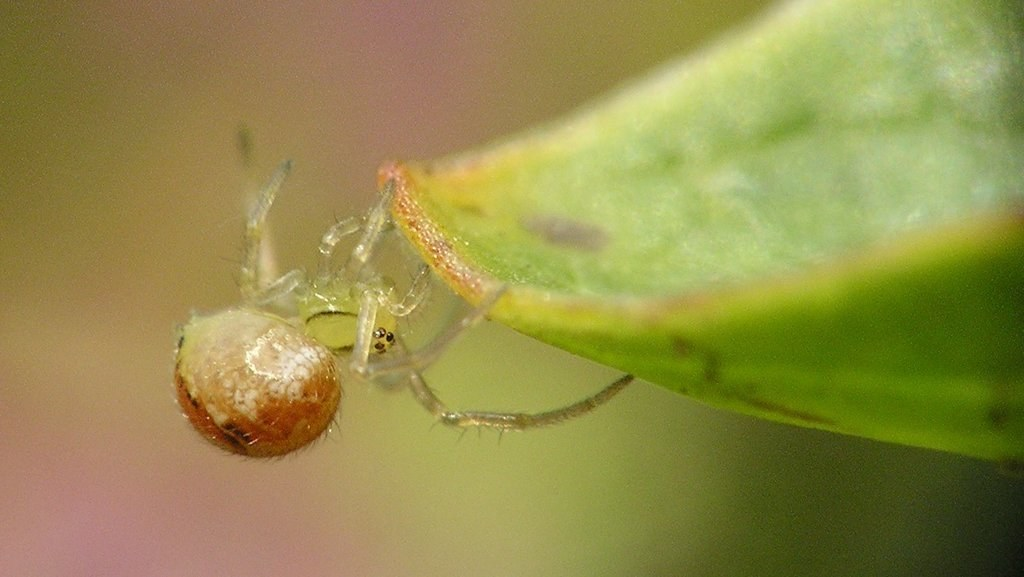insect: (175, 125, 636, 467)
